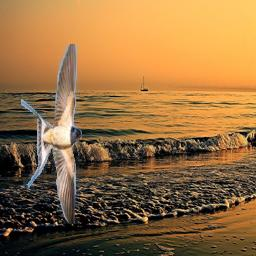Swallow: (21, 44, 82, 224)
